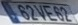2: (25, 3, 39, 20), (59, 6, 73, 22)
6: (16, 3, 30, 20), (52, 5, 64, 21)
E: (41, 5, 59, 21)
V: (31, 4, 47, 21)
